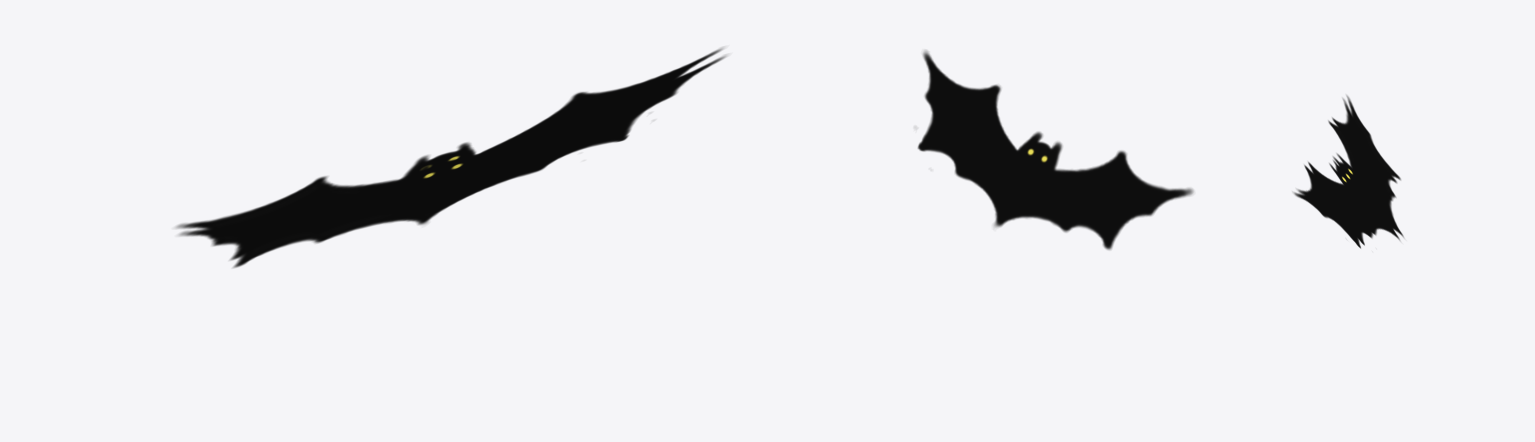
Rendered from DANDU_Bianfu.glb.
3 views of the same model, side by side, from view 1: azimuth 30°, elevation 25°; view 2: azimuth 150°, elevation 25°; view 3: azimuth 270°, elevation 25° (orthographic). The views are drawn at different scales.
Visible parts, largest first — view 1: Plane.010; view 2: Plane.010; view 3: Plane.010.
Part boxes in pixels (<box>): Plane.010: <box>176,48,726,267</box>; Plane.010: <box>918,50,1193,249</box>; Plane.010: <box>1293,95,1403,248</box>.
Size of the model in its own units: 1.67 by 1.26 by 1.13.
1 material, 1 textured.
